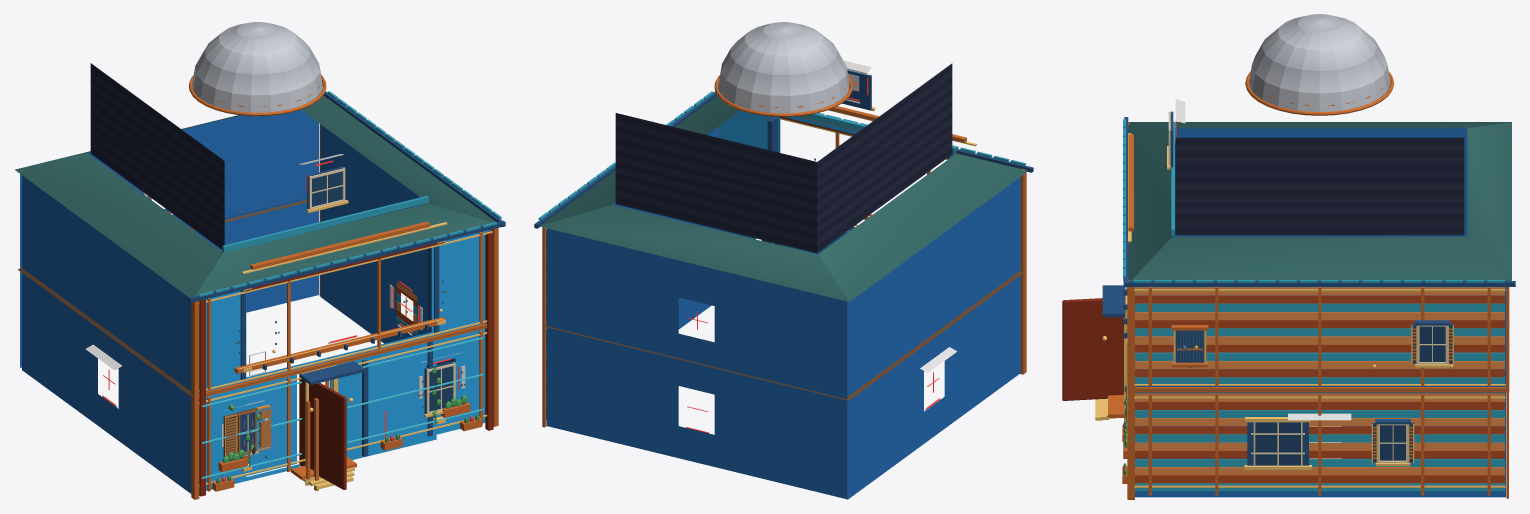
Rendered from exterior-home-COVY0br8.glb.
3 views of the same model, side by side, from view 1: azimuth 30°, elevation 25°; view 2: azimuth 150°, elevation 25°; view 3: azimuth 270°, elevation 25° (orthographic). The views are drawn at different scales.
Parts seen in each view (by area): view 1: WallLeft, RoofMain, WallBack, WallFront, ObsLeft, WallRight, ObsDome, EXT_GroundFacade_Right, EXT_EntryDoorLeaf, EXT_GroundFacade_Left, BeltCourse, CUTAWAY_CornerSoft_0 (+20 smaller); view 2: WallBack, WallLeft, RoofMain, ObsBack, ObsLeft, ObsDome, WallFront, BeltCourse, CUTAWAY_CornerSoft_0, WallRight, EXT_Corner_9.49_9.49, EXT_Eave_Right (+2 smaller); view 3: ObsRight, RoofMain, ObsDome, EXT_EntryDoorLeaf, WallRight, WallLeft, EXT_Right_Lower_Board_1, EXT_Right_Lower_Board_10, EXT_Right_Upper_Board_1, EXT_Right_Upper_Board_9, EXT_Right_Upper_Board_10, EXT_Right_Upper_Board_8 (+36 smaller).
Boxes of the visible parts, x1,y1,x2,y2 form: WallLeft: (22,175,191,493); RoofMain: (15,95,495,297); WallBack: (20,109,318,367); WallFront: (206,230,490,490); ObsLeft: (90,63,224,249); WallRight: (320,124,455,365); ObsDome: (192,22,322,112); EXT_GroundFacade_Right: (329,343,436,459); EXT_EntryDoorLeaf: (299,373,346,489); EXT_GroundFacade_Left: (228,374,296,475); BeltCourse: (18,198,487,396); CUTAWAY_CornerSoft_0: (191,301,199,499); WallBack: (546,226,847,499); WallLeft: (847,177,1020,499); RoofMain: (539,96,1027,301); ObsBack: (615,113,817,252); ObsLeft: (817,63,952,252); ObsDome: (718,22,849,113); WallFront: (720,110,1020,371); BeltCourse: (542,271,1024,400); CUTAWAY_CornerSoft_0: (1020,168,1026,374); WallRight: (546,126,719,426); EXT_Corner_9.49_9.49: (542,227,545,427); EXT_Eave_Right: (534,91,717,228); ObsRight: (1175,137,1464,235); RoofMain: (1128,122,1511,280); ObsDome: (1249,14,1390,111); EXT_EntryDoorLeaf: (1062,298,1123,400); WallRight: (1135,287,1505,497); WallLeft: (1172,128,1467,236); EXT_Right_Lower_Board_1: (1135,475,1504,483); EXT_Right_Lower_Board_10: (1135,401,1504,409); EXT_Right_Upper_Board_1: (1135,369,1504,377); EXT_Right_Upper_Board_9: (1135,303,1504,311); EXT_Right_Upper_Board_10: (1135,295,1504,303); EXT_Right_Upper_Board_8: (1135,312,1504,319).
Bounding box in the file's own units: 20.18 × 23.02 × 22.91.
